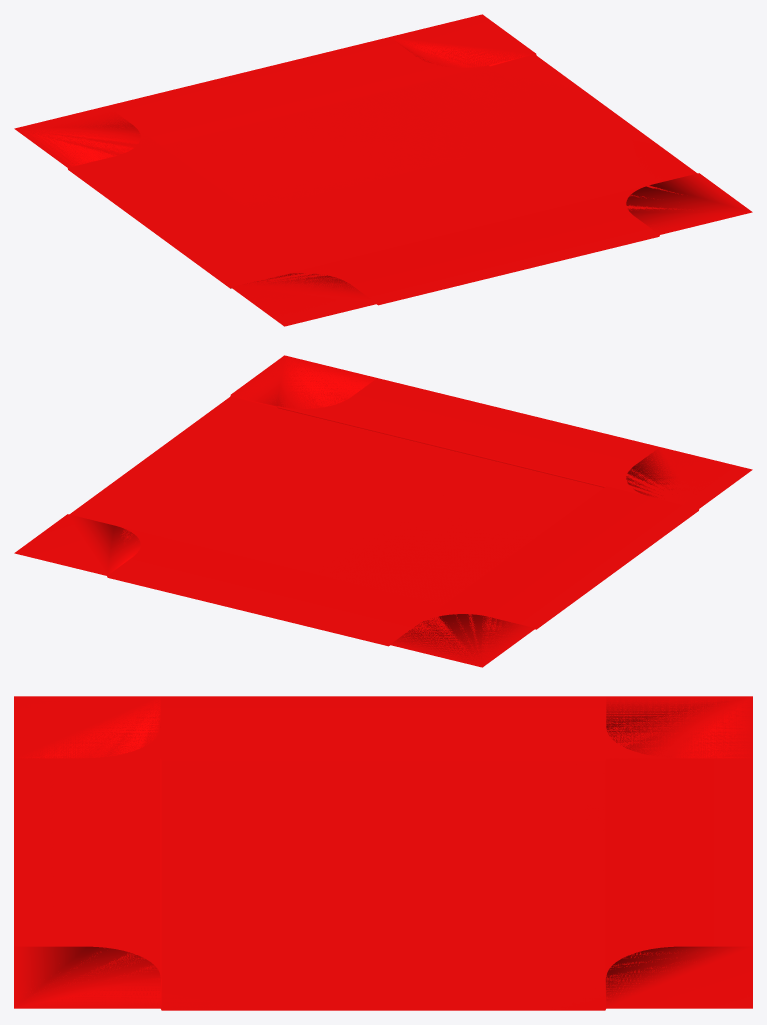
File: colmeshes.fbx
3 renders of one model, top to bottom at view 1: azimuth 30°, elevation 25°; view 2: azimuth 150°, elevation 25°; view 3: azimuth 270°, elevation 25°, orthographic. The views are drawn at different scales.
Parts seen in each view (by area): view 1: Mesh_ncl1_2, Mesh, Mesh_ncl1_1; view 2: Mesh_ncl1_2, Mesh_ncl1_1, Mesh; view 3: Mesh, Mesh_ncl1_2, Mesh_ncl1_1.
Part boxes in pixels (<box>): Mesh_ncl1_2: <box>15,14,702,325</box>; Mesh: <box>15,14,752,326</box>; Mesh_ncl1_1: <box>14,68,658,326</box>; Mesh_ncl1_2: <box>71,355,709,667</box>; Mesh_ncl1_1: <box>108,408,752,666</box>; Mesh: <box>14,355,731,667</box>; Mesh: <box>14,696,752,1010</box>; Mesh_ncl1_2: <box>14,696,752,1010</box>; Mesh_ncl1_1: <box>14,696,752,979</box>.
Bounding box in the file's own units: 3000 × 10 × 3000.
